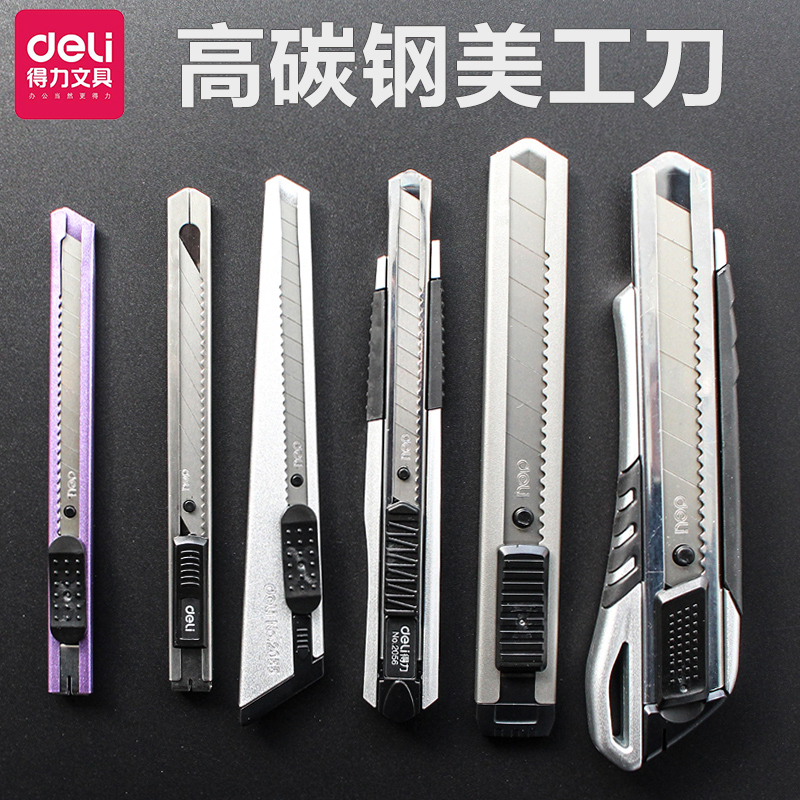cutter: (582, 152, 741, 771), (471, 136, 569, 743), (233, 171, 329, 724), (359, 167, 442, 721), (45, 207, 98, 699), (165, 185, 213, 695)
